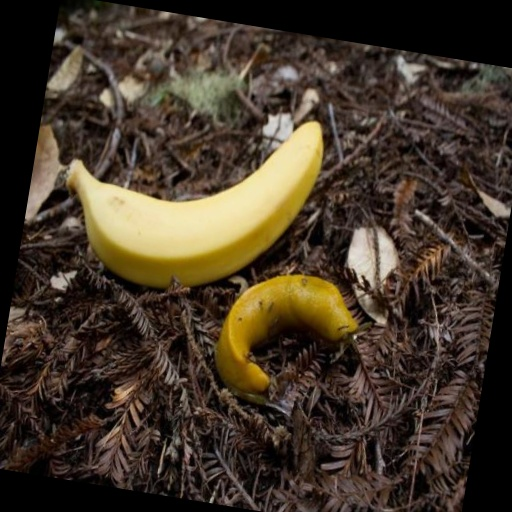fruit: (66, 122, 322, 287), (214, 275, 357, 404)
